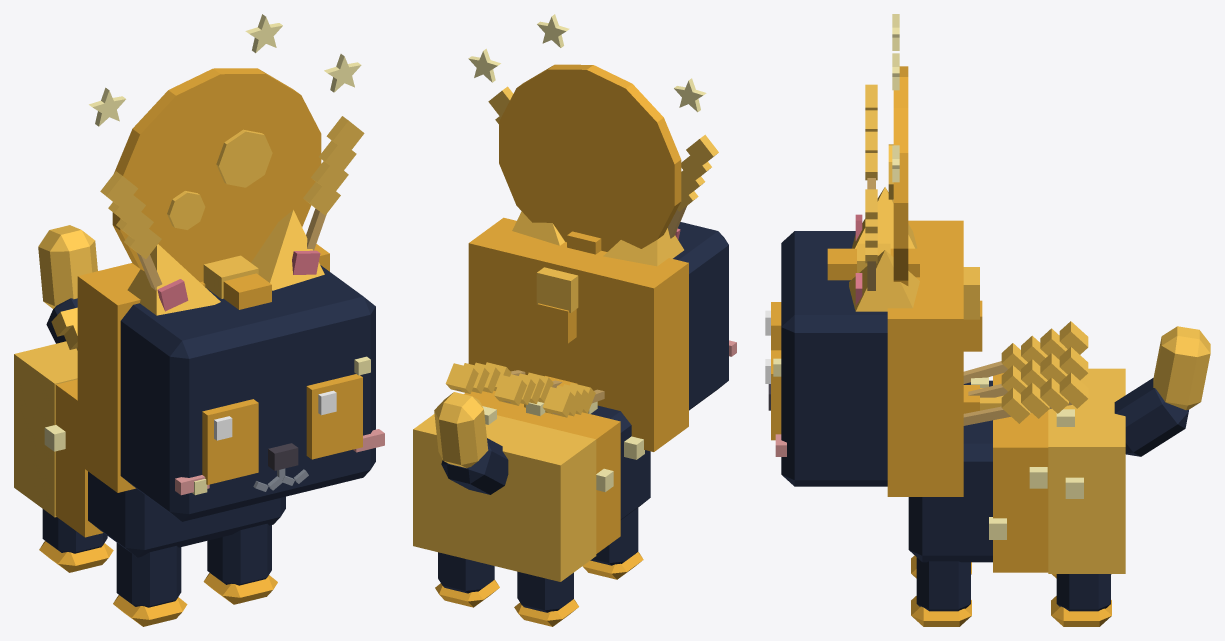
Rendered from CatCafe_Cat_HarvestMoon.fbx.
3 renders of one model, left to right at view 1: azimuth 30°, elevation 25°; view 2: azimuth 150°, elevation 25°; view 3: azimuth 270°, elevation 25°, orthographic. The views are drawn at different scales.
Parts seen in each view (by area): view 1: CatCafe_Cat_HarvestMoon_Head, CatCafe_Cat_HarvestMoon_Glow, CatCafe_Cat_HarvestMoon_Body, CatCafe_Cat_HarvestMoon_Prop, CatCafe_Cat_HarvestMoon_LegF2, CatCafe_Cat_HarvestMoon_LegF1, CatCafe_Cat_HarvestMoon_Eye1, CatCafe_Cat_HarvestMoon_Eye2, CatCafe_Cat_HarvestMoon_Tail, CatCafe_Cat_HarvestMoon_EarL, CatCafe_Cat_HarvestMoon_EarR, CatCafe_Cat_HarvestMoon_LegB2 (+1 smaller); view 2: CatCafe_Cat_HarvestMoon_Head, CatCafe_Cat_HarvestMoon_Body, CatCafe_Cat_HarvestMoon_Glow, CatCafe_Cat_HarvestMoon_Tail, CatCafe_Cat_HarvestMoon_Wheat_Glow, CatCafe_Cat_HarvestMoon_LegB2, CatCafe_Cat_HarvestMoon_LegB1, CatCafe_Cat_HarvestMoon_Prop, CatCafe_Cat_HarvestMoon_LegF2, CatCafe_Cat_HarvestMoon_EarR, CatCafe_Cat_HarvestMoon_EarL; view 3: CatCafe_Cat_HarvestMoon_Head, CatCafe_Cat_HarvestMoon_Body, CatCafe_Cat_HarvestMoon_Tail, CatCafe_Cat_HarvestMoon_Wheat_Glow, CatCafe_Cat_HarvestMoon_Glow, CatCafe_Cat_HarvestMoon_LegF1, CatCafe_Cat_HarvestMoon_LegB1, CatCafe_Cat_HarvestMoon_Prop, CatCafe_Cat_HarvestMoon_EarL, CatCafe_Cat_HarvestMoon_Prop2, CatCafe_Cat_HarvestMoon_EarR, CatCafe_Cat_HarvestMoon_Eye1 (+1 smaller).
Part boxes in pixels (<box>): CatCafe_Cat_HarvestMoon_Head: <box>77,244,384,521</box>; CatCafe_Cat_HarvestMoon_Glow: <box>89,14,361,282</box>; CatCafe_Cat_HarvestMoon_Body: <box>14,341,285,557</box>; CatCafe_Cat_HarvestMoon_Prop: <box>100,116,364,290</box>; CatCafe_Cat_HarvestMoon_LegF2: <box>113,542,187,626</box>; CatCafe_Cat_HarvestMoon_LegF1: <box>203,523,277,604</box>; CatCafe_Cat_HarvestMoon_Eye1: <box>306,374,362,459</box>; CatCafe_Cat_HarvestMoon_Eye2: <box>202,399,258,484</box>; CatCafe_Cat_HarvestMoon_Tail: <box>38,225,97,343</box>; CatCafe_Cat_HarvestMoon_EarL: <box>251,210,324,290</box>; CatCafe_Cat_HarvestMoon_EarR: <box>127,244,220,315</box>; CatCafe_Cat_HarvestMoon_LegB2: <box>39,509,113,572</box>; CatCafe_Cat_HarvestMoon_Head: <box>468,217,736,451</box>; CatCafe_Cat_HarvestMoon_Body: <box>413,376,650,581</box>; CatCafe_Cat_HarvestMoon_Glow: <box>468,14,706,251</box>; CatCafe_Cat_HarvestMoon_Tail: <box>434,392,508,494</box>; CatCafe_Cat_HarvestMoon_Wheat_Glow: <box>445,362,595,417</box>; CatCafe_Cat_HarvestMoon_LegB2: <box>514,571,578,626</box>; CatCafe_Cat_HarvestMoon_LegB1: <box>435,552,499,607</box>; CatCafe_Cat_HarvestMoon_Prop: <box>488,86,718,238</box>; CatCafe_Cat_HarvestMoon_LegF2: <box>582,507,643,579</box>; CatCafe_Cat_HarvestMoon_EarR: <box>603,228,683,266</box>; CatCafe_Cat_HarvestMoon_EarL: <box>512,211,564,245</box>; CatCafe_Cat_HarvestMoon_Head: <box>768,220,982,496</box>; CatCafe_Cat_HarvestMoon_Body: <box>908,368,1125,573</box>; CatCafe_Cat_HarvestMoon_Tail: <box>1114,326,1210,456</box>; CatCafe_Cat_HarvestMoon_Wheat_Glow: <box>1001,321,1088,423</box>; CatCafe_Cat_HarvestMoon_Glow: <box>888,14,908,285</box>; CatCafe_Cat_HarvestMoon_LegF1: <box>911,557,971,626</box>; CatCafe_Cat_HarvestMoon_LegB1: <box>1051,574,1111,626</box>; CatCafe_Cat_HarvestMoon_Prop: <box>865,84,877,290</box>; CatCafe_Cat_HarvestMoon_EarL: <box>849,250,919,311</box>; CatCafe_Cat_HarvestMoon_Prop2: <box>963,347,1072,425</box>; CatCafe_Cat_HarvestMoon_EarR: <box>852,187,917,248</box>; CatCafe_Cat_HarvestMoon_Eye1: <box>765,350,781,440</box>.
Bounding box in the file's own units: 1.31 × 2.76 × 1.97.
Materials: 1 (1 with a texture image).
